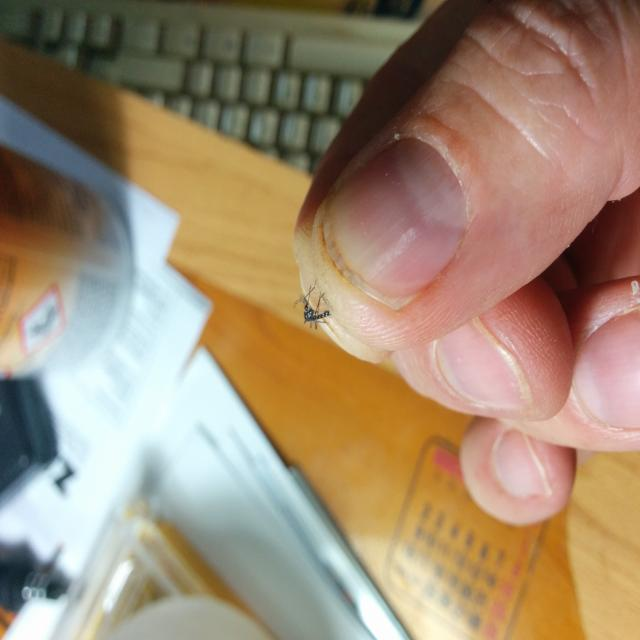albopictus: (290, 269, 338, 335)
